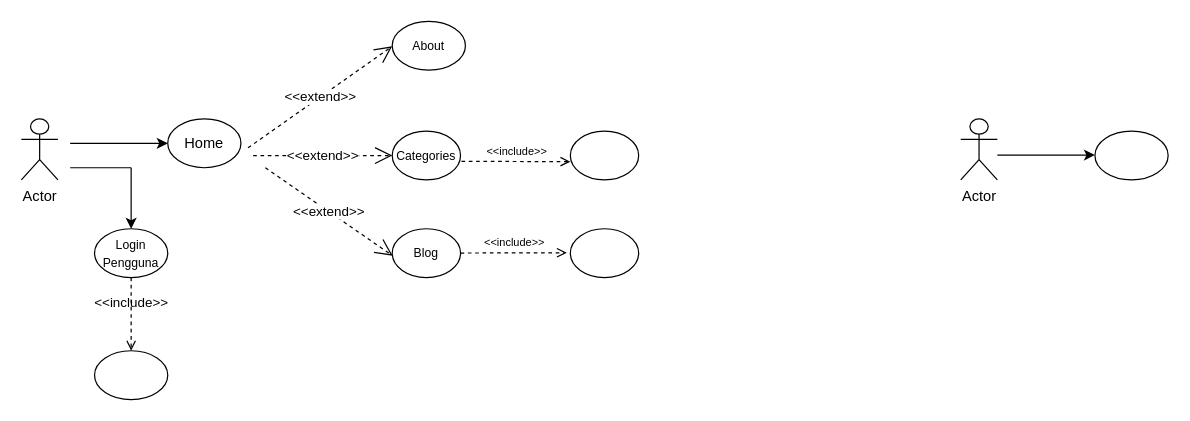
Image size: 1190x421. Some labels were removed from this diagram. Each missing label, with the centre of its shape:
"Detail Blog" goes at [604,253].
"Detail Product" goes at [604,155].
"Login Admin" goes at [1131,155].
"Register" goes at [130,375].
